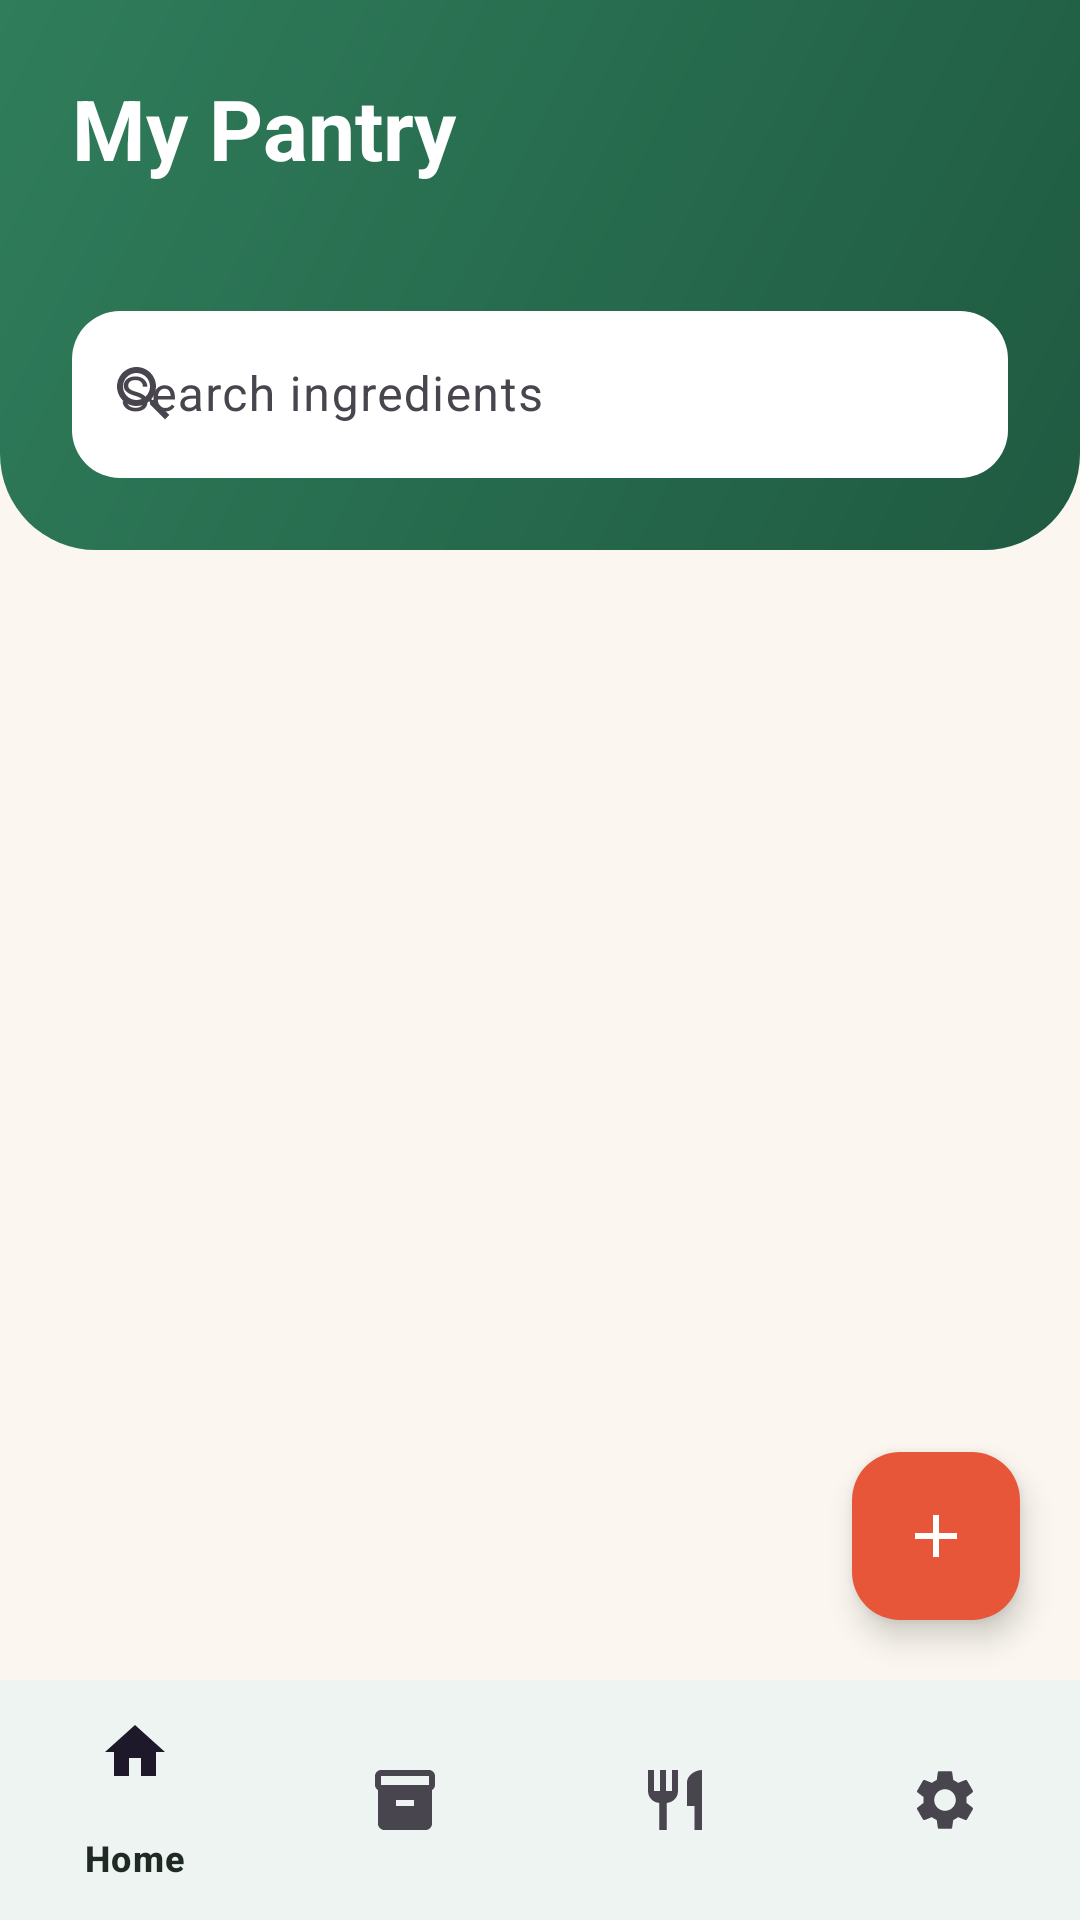

Locate icon controls on the screen. Image size 1080w x 1920h, boxes as box=[x1, y1, x2, y2].
Add ingredient: box=[852, 1452, 1020, 1620]
